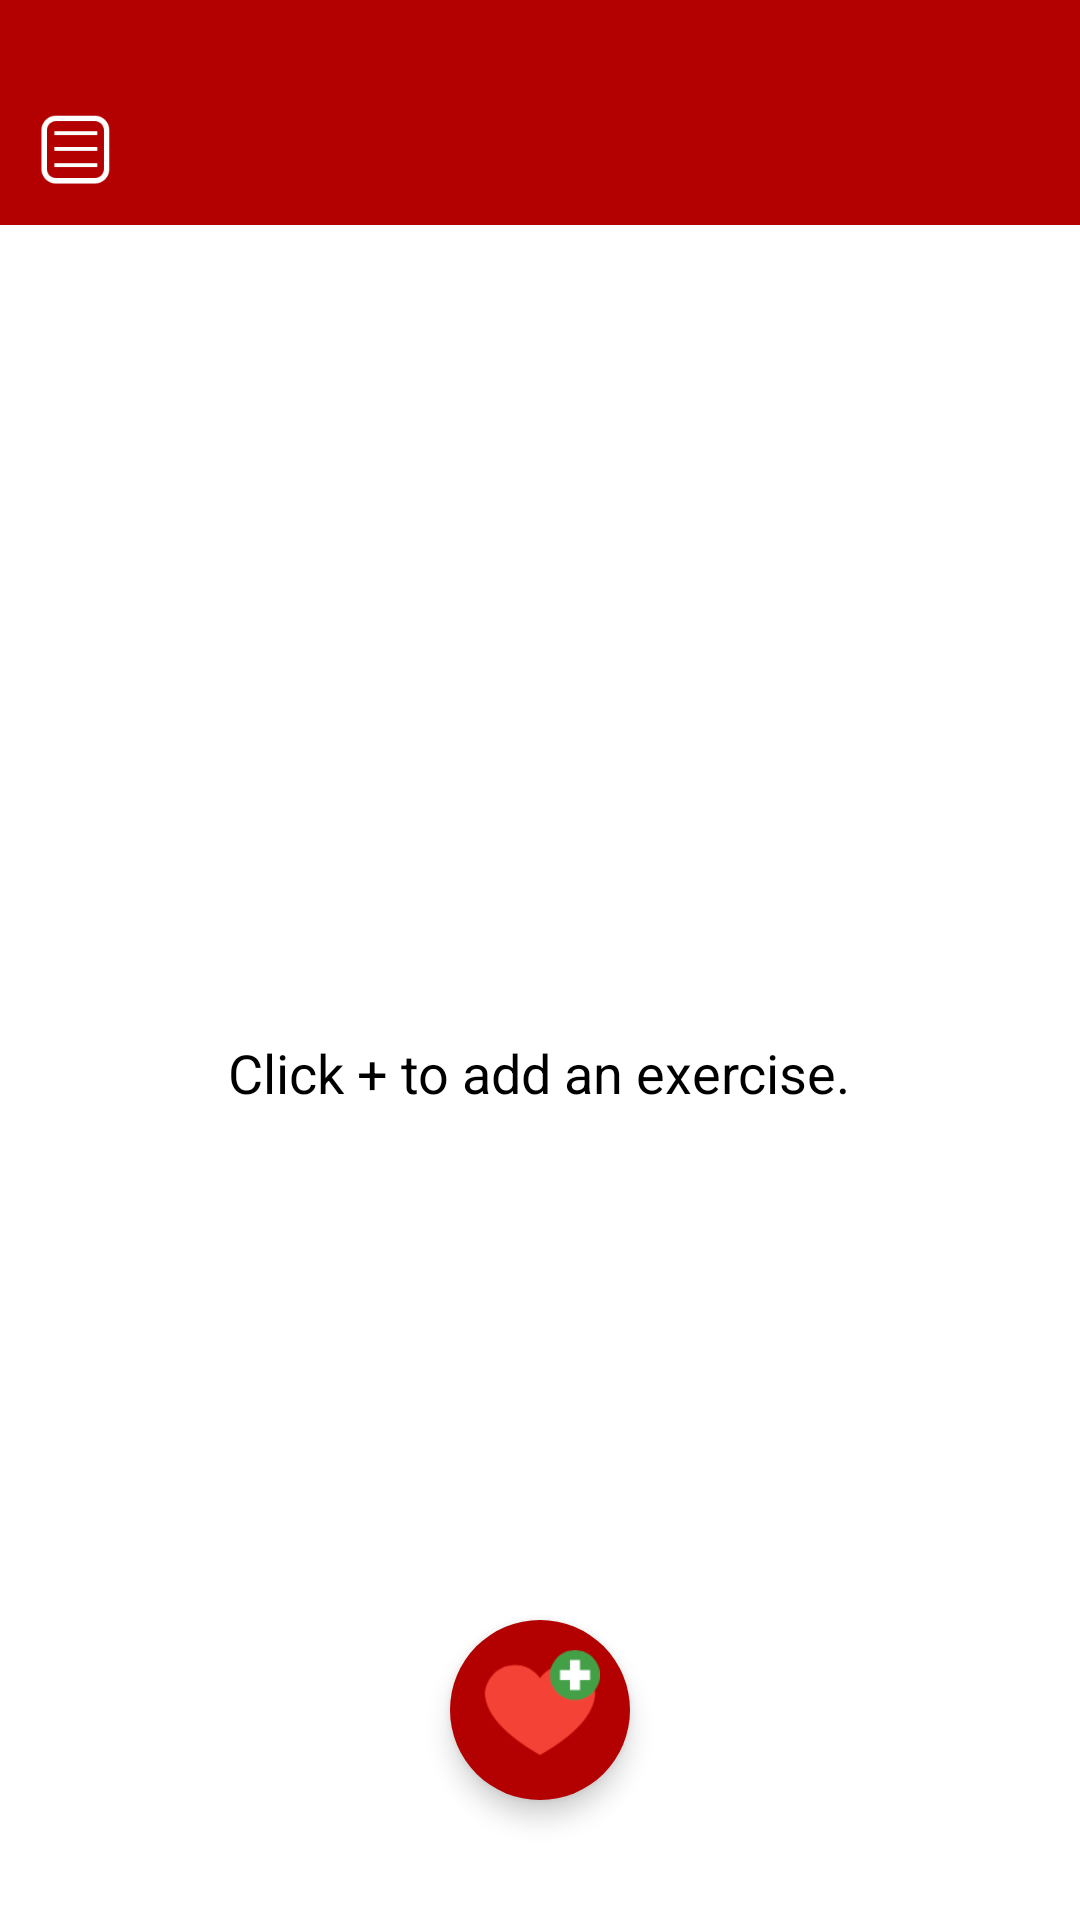

Icons on this 1080w x 1920h Android screen, each with its box as (x1, y1, x2, y2):
heartadd: (450, 1620, 630, 1800)
listhistoryv: (41, 115, 110, 184)
